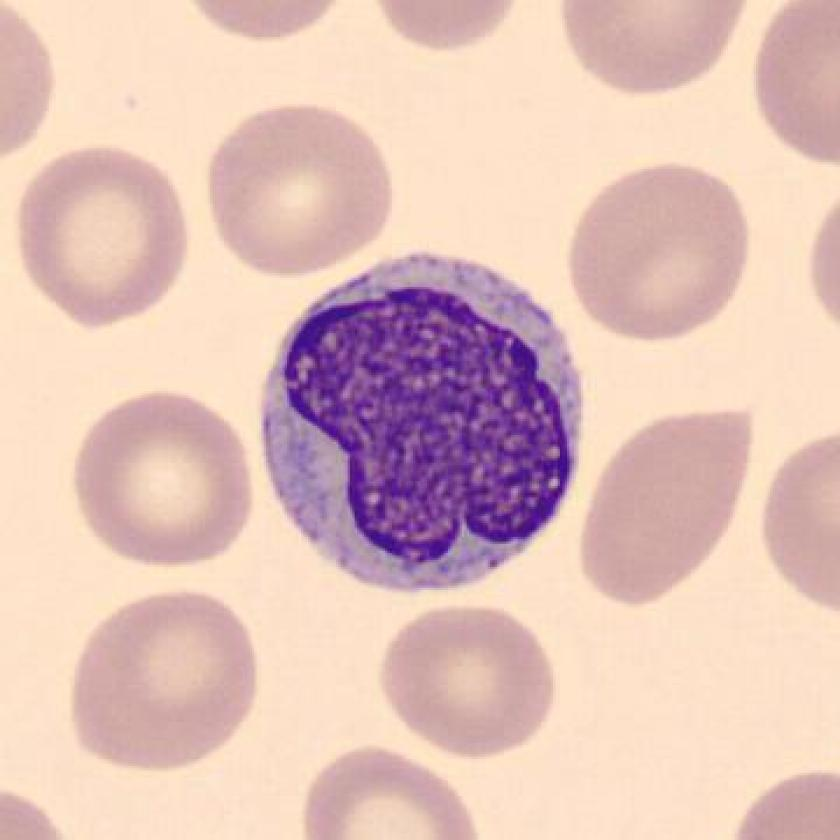monocyte: (244, 242, 610, 607)
